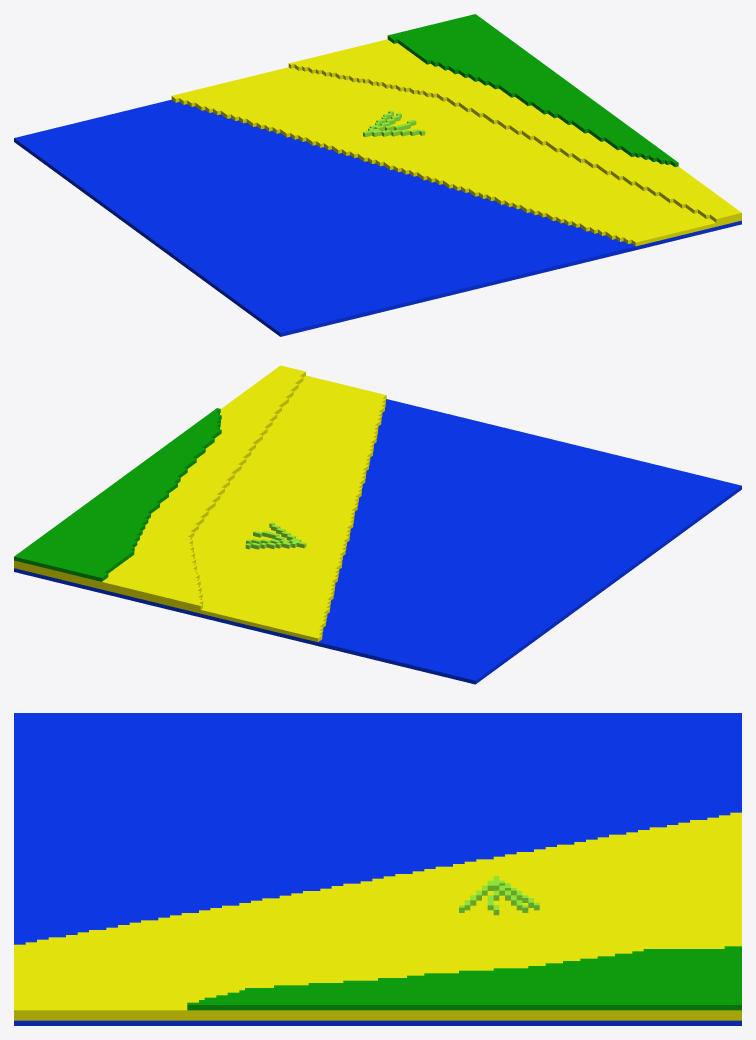
File: map3.glb
3 renders of one model, top to bottom at view 1: azimuth 30°, elevation 25°; view 2: azimuth 150°, elevation 25°; view 3: azimuth 270°, elevation 25°, orthographic. The views are drawn at different scales.
Parts seen in each view (by area): view 1: node_1c5db04c_cd0b_4e6f_be97_3d221d858a90_mesh0; view 2: node_1c5db04c_cd0b_4e6f_be97_3d221d858a90_mesh0; view 3: node_1c5db04c_cd0b_4e6f_be97_3d221d858a90_mesh0.
Boxes of the visible parts, x1,y1,x2,y2 form: node_1c5db04c_cd0b_4e6f_be97_3d221d858a90_mesh0: (14, 14, 741, 336); node_1c5db04c_cd0b_4e6f_be97_3d221d858a90_mesh0: (14, 365, 741, 684); node_1c5db04c_cd0b_4e6f_be97_3d221d858a90_mesh0: (14, 713, 741, 1025).
Bounding box in the file's own units: 12.6 × 0.4 × 12.6.
Materials: 1 (1 with a texture image).
